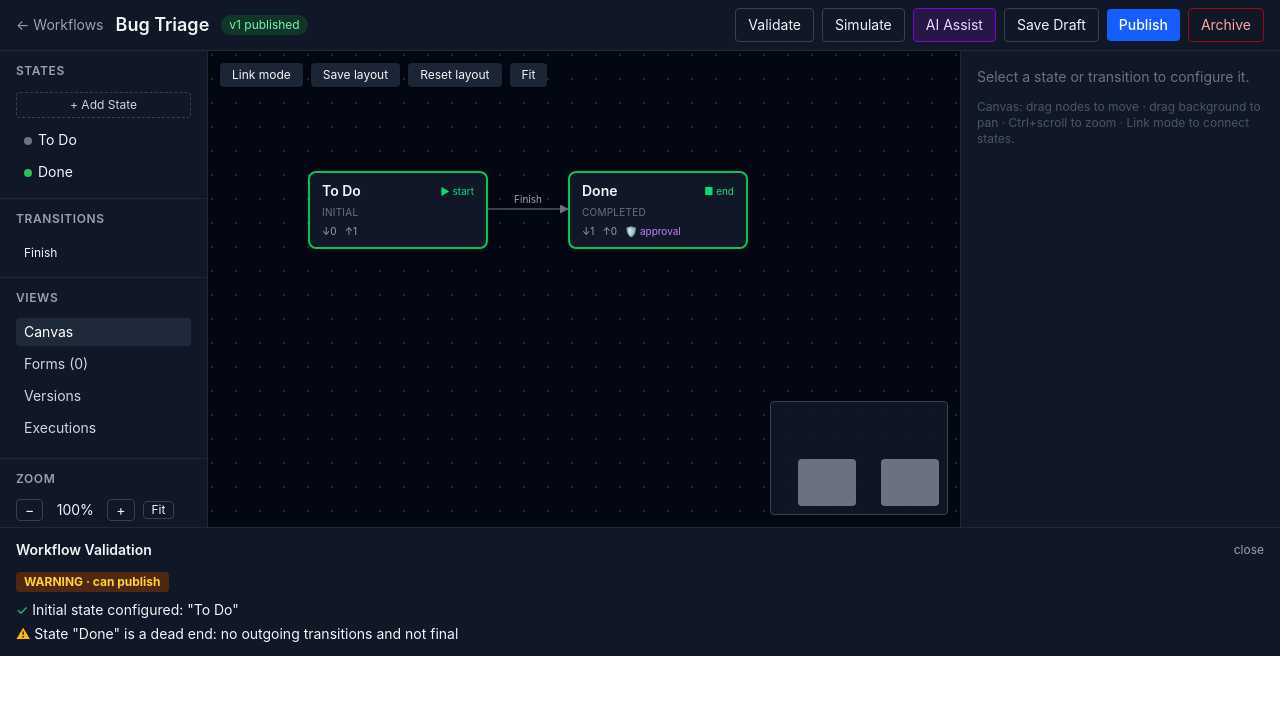
Test: WorkflowStudio › versions tab lists version history
This screenshot has width=1280, height=720.
Expected: the element with test id "workflow-canvas" is shown, [208, 51, 960, 527]
Step 1. Click the button "versions" → coordinates (104, 396), box [16, 382, 191, 410]
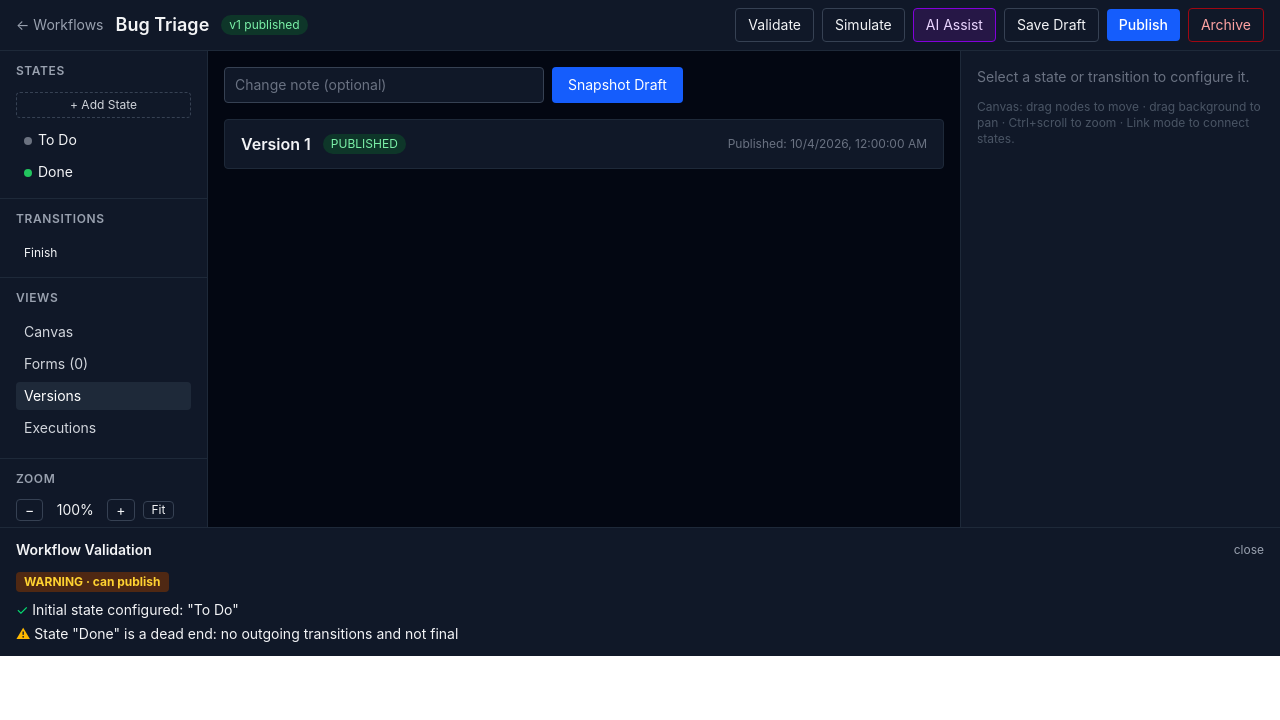
Expected: the element with test id "versions-tab" is shown, [208, 51, 960, 185]
Expected: the text "Version 1" is shown, [241, 132, 311, 156]
